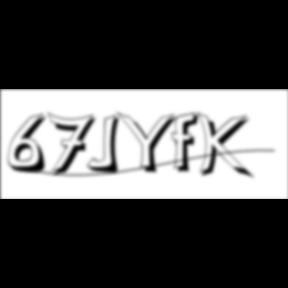6: (8, 112, 53, 176)
7: (48, 111, 102, 179)
J: (88, 114, 126, 176)
K: (198, 110, 256, 182)
Y: (117, 110, 184, 176)
f: (172, 111, 206, 175)
